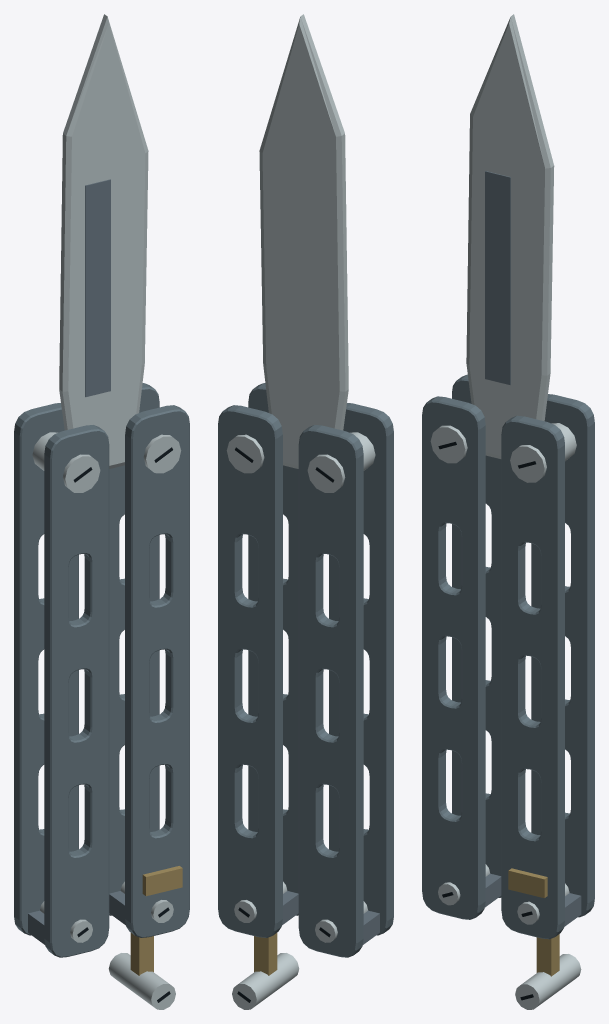
The model's file is butterfly.glb.
3 renders of one model, left to right at view 1: azimuth 30°, elevation 25°; view 2: azimuth 150°, elevation 25°; view 3: azimuth 330°, elevation 25°, orthographic.
Visible parts, largest first — view 1: safeHandle, biteHandle, blade, knifeLatch; view 2: safeHandle, biteHandle, blade, knifeLatch; view 3: biteHandle, safeHandle, blade, knifeLatch.
Part boxes in pixels (x1,y1,x2,y2): safeHandle: (14,403,109,957); biteHandle: (109,383,189,937); blade: (59,14,148,468); knifeLatch: (108,933,175,1009); safeHandle: (298,403,393,957); biteHandle: (218,383,298,937); blade: (259,14,348,468); knifeLatch: (232,933,299,1009); biteHandle: (501,394,594,939); safeHandle: (422,374,501,919); blade: (466,14,554,458); knifeLatch: (515,934,581,1009).
Size of the model in its own units: 0.0381 by 0.2571 by 0.0206.
